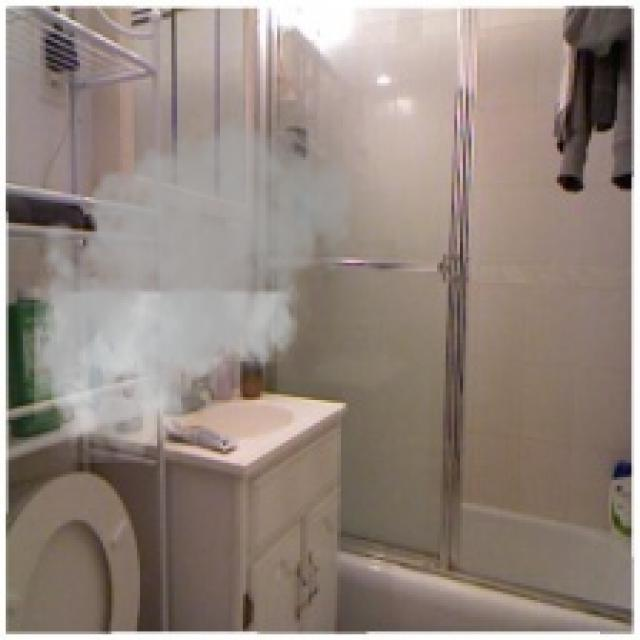smoke: (20, 100, 363, 463)
